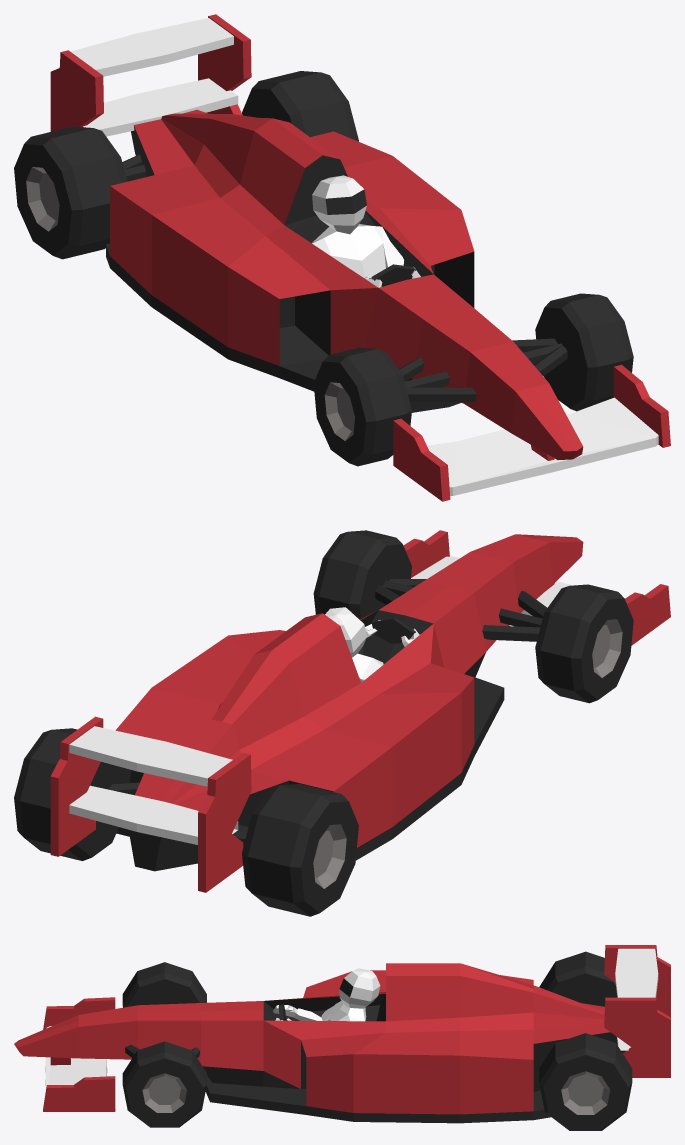
Rendered from car-formula.glb.
3 views of the same model, one above another, from view 1: azimuth 30°, elevation 25°; view 2: azimuth 150°, elevation 25°; view 3: azimuth 270°, elevation 25° (orthographic). The views are drawn at different scales.
Visible parts, largest first — view 1: car-formula-base, car-formula-wheel_BR, car-formula-wheel_FR, car-formula-wheel_FL, car-formula-wheel_BL; view 2: car-formula-base, car-formula-wheel_BR, car-formula-wheel_FR, car-formula-wheel_FL, car-formula-wheel_BL; view 3: car-formula-base, car-formula-wheel_BL, car-formula-wheel_FL, car-formula-wheel_BR, car-formula-wheel_FR.
Part boxes in pixels (bbox=[...]): car-formula-base: bbox=[50, 14, 670, 501]; car-formula-wheel_BR: bbox=[14, 126, 127, 259]; car-formula-wheel_FR: bbox=[313, 347, 411, 466]; car-formula-wheel_FL: bbox=[535, 293, 633, 411]; car-formula-wheel_BL: bbox=[242, 71, 358, 141]; car-formula-base: bbox=[50, 530, 670, 892]; car-formula-wheel_BR: bbox=[242, 784, 358, 916]; car-formula-wheel_FR: bbox=[535, 584, 633, 703]; car-formula-wheel_FL: bbox=[313, 530, 411, 619]; car-formula-wheel_BL: bbox=[14, 728, 130, 860]; car-formula-base: bbox=[14, 945, 670, 1123]; car-formula-wheel_BL: bbox=[539, 1033, 632, 1130]; car-formula-wheel_FL: bbox=[122, 1041, 206, 1127]; car-formula-wheel_BR: bbox=[539, 951, 617, 1006]; car-formula-wheel_FR: bbox=[122, 962, 206, 1007].
Bounding box in the file's own units: 1.8 × 0.9745 × 4.86.
Materials: 1 (1 with a texture image).
